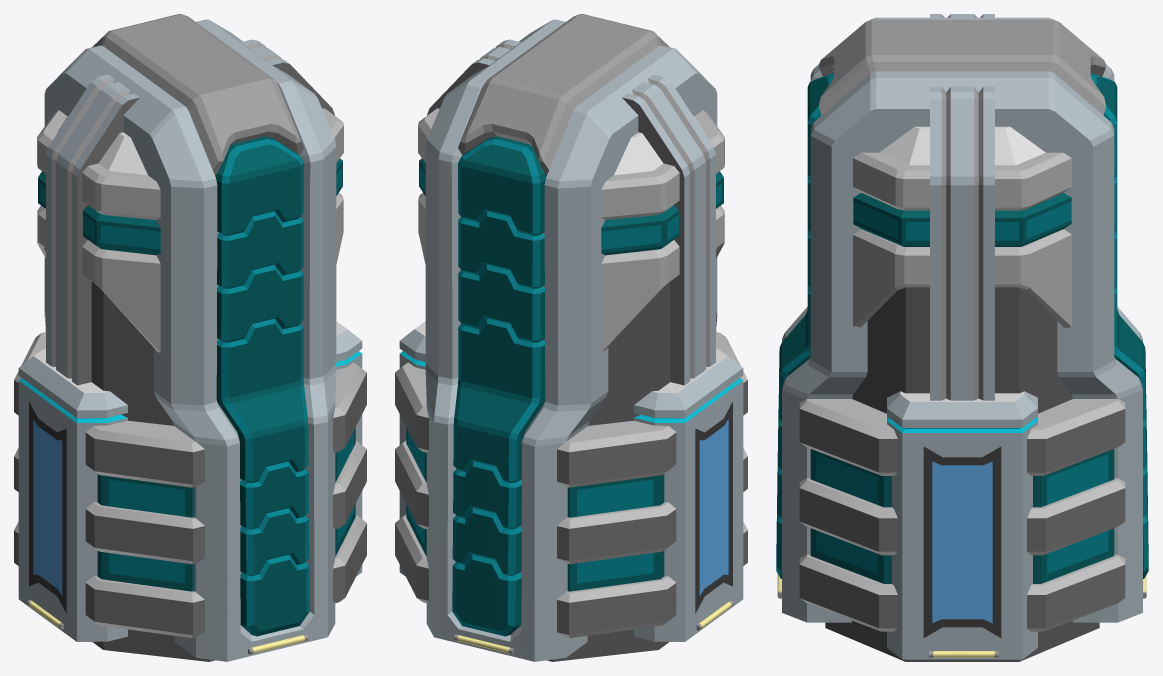
The model's file is building_005.fbx.
3 renders of one model, left to right at view 1: azimuth 30°, elevation 25°; view 2: azimuth 150°, elevation 25°; view 3: azimuth 270°, elevation 25°, orthographic. The views are drawn at different scales.
Visible parts, largest first — view 1: building_005; view 2: building_005; view 3: building_005.
Boxes of the visible parts, x1=… form: building_005: x1=14, y1=14, x2=366, y2=661; building_005: x1=395, y1=14, x2=747, y2=661; building_005: x1=776, y1=14, x2=1148, y2=661.
Size of the model in its own units: 1522 by 1618 by 2719.
